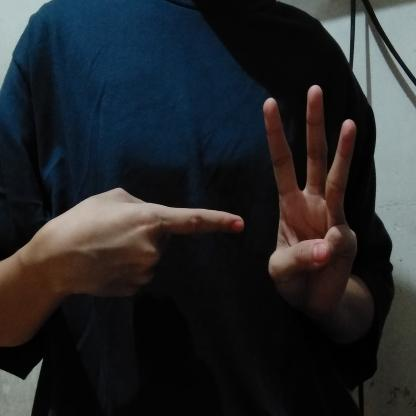why: (36, 77, 379, 344)
